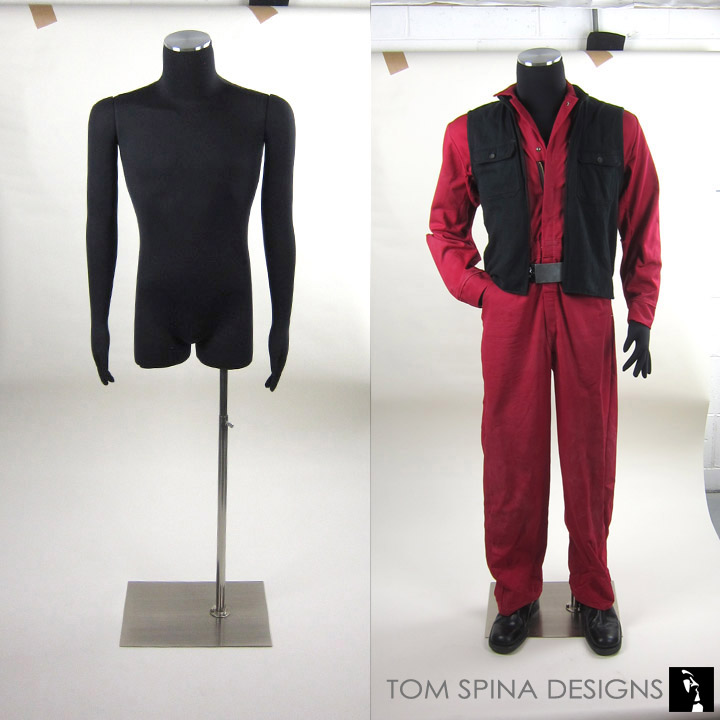person-like: (423, 43, 669, 665), (76, 21, 304, 407)
